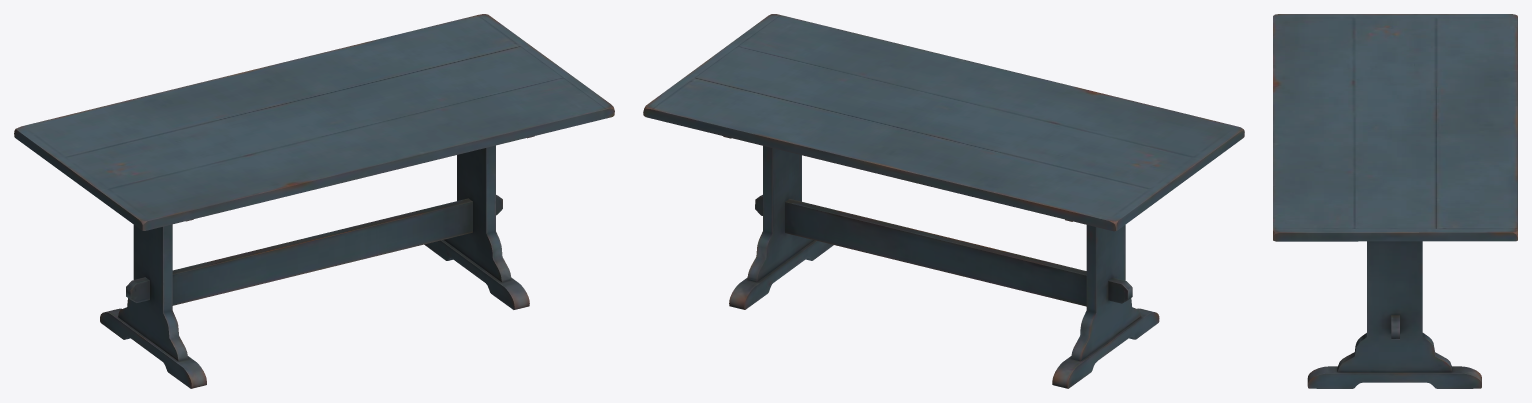
File: painted_wooden_table.glb
3 renders of one model, left to right at view 1: azimuth 30°, elevation 25°; view 2: azimuth 150°, elevation 25°; view 3: azimuth 270°, elevation 25°, orthographic. The views are drawn at different scales.
Visible parts, largest first — view 1: painted_wooden_table; view 2: painted_wooden_table; view 3: painted_wooden_table.
Part boxes in pixels (x1=…): painted_wooden_table: x1=14, y1=14, x2=614, y2=388; painted_wooden_table: x1=643, y1=14, x2=1244, y2=388; painted_wooden_table: x1=1273, y1=14, x2=1517, y2=388.
Size of the model in its own units: 2.4 by 0.9586 by 1.14.
1 material, 1 textured.
